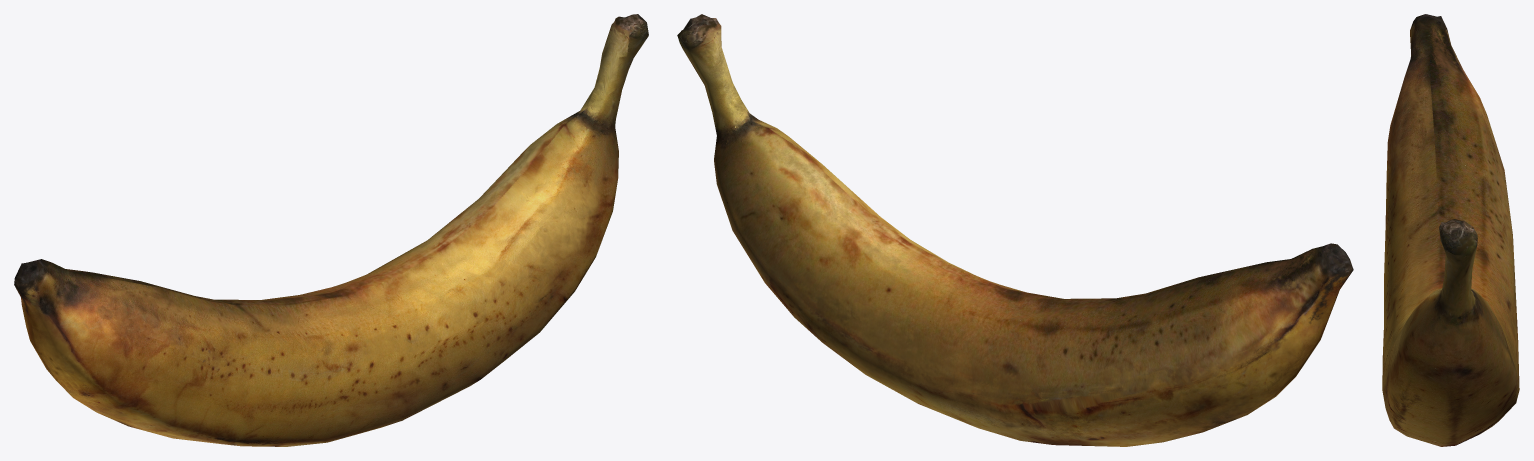
The model's file is PlatanoA.glb.
3 views of the same model, side by side, from view 1: azimuth 30°, elevation 25°; view 2: azimuth 150°, elevation 25°; view 3: azimuth 270°, elevation 25° (orthographic). The views are drawn at different scales.
Visible parts, largest first — view 1: Platano_R, Platano_L; view 2: Platano_R, Platano_L; view 3: Platano_R, Platano_L.
Boxes of the visible parts, left/top/right/bottom form: Platano_R: left=14, top=259, right=371, bottom=446; Platano_L: left=327, top=14, right=648, bottom=433; Platano_R: left=968, top=243, right=1353, bottom=446; Platano_L: left=677, top=14, right=1015, bottom=431; Platano_R: left=1383, top=14, right=1518, bottom=355; Platano_L: left=1382, top=219, right=1519, bottom=446.
Bounding box in the file's own units: 2.25 × 1.13 × 0.4175.
Materials: 1 (1 with a texture image).
